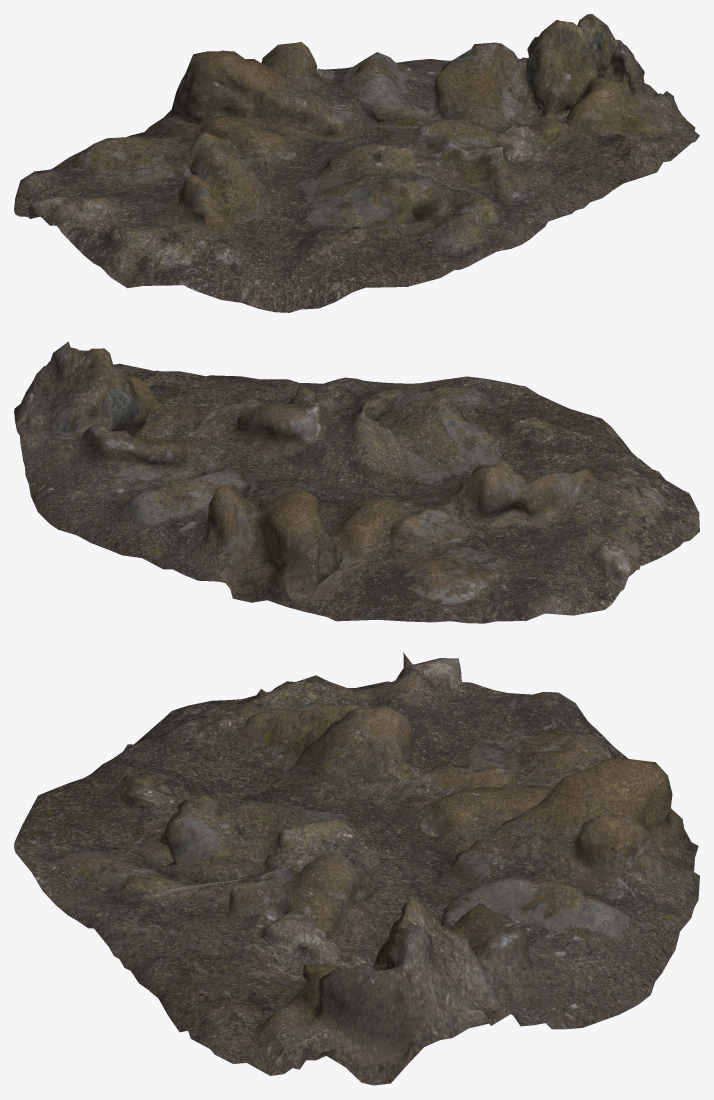
File: PX_Mossy_Rock_10_LOD3.fbx
3 views of the same model, one above another, from view 1: azimuth 30°, elevation 25°; view 2: azimuth 150°, elevation 25°; view 3: azimuth 270°, elevation 25° (orthographic). The views are drawn at different scales.
Parts seen in each view (by area): view 1: PX_Mossy_Rock_10_LOD3; view 2: PX_Mossy_Rock_10_LOD3; view 3: PX_Mossy_Rock_10_LOD3.
Part boxes in pixels (x1,y1,x2,y2): PX_Mossy_Rock_10_LOD3: (14,14,699,312); PX_Mossy_Rock_10_LOD3: (14,341,699,623); PX_Mossy_Rock_10_LOD3: (14,652,699,1085).
Bounding box in the file's own units: 236 × 40.1 × 171.
